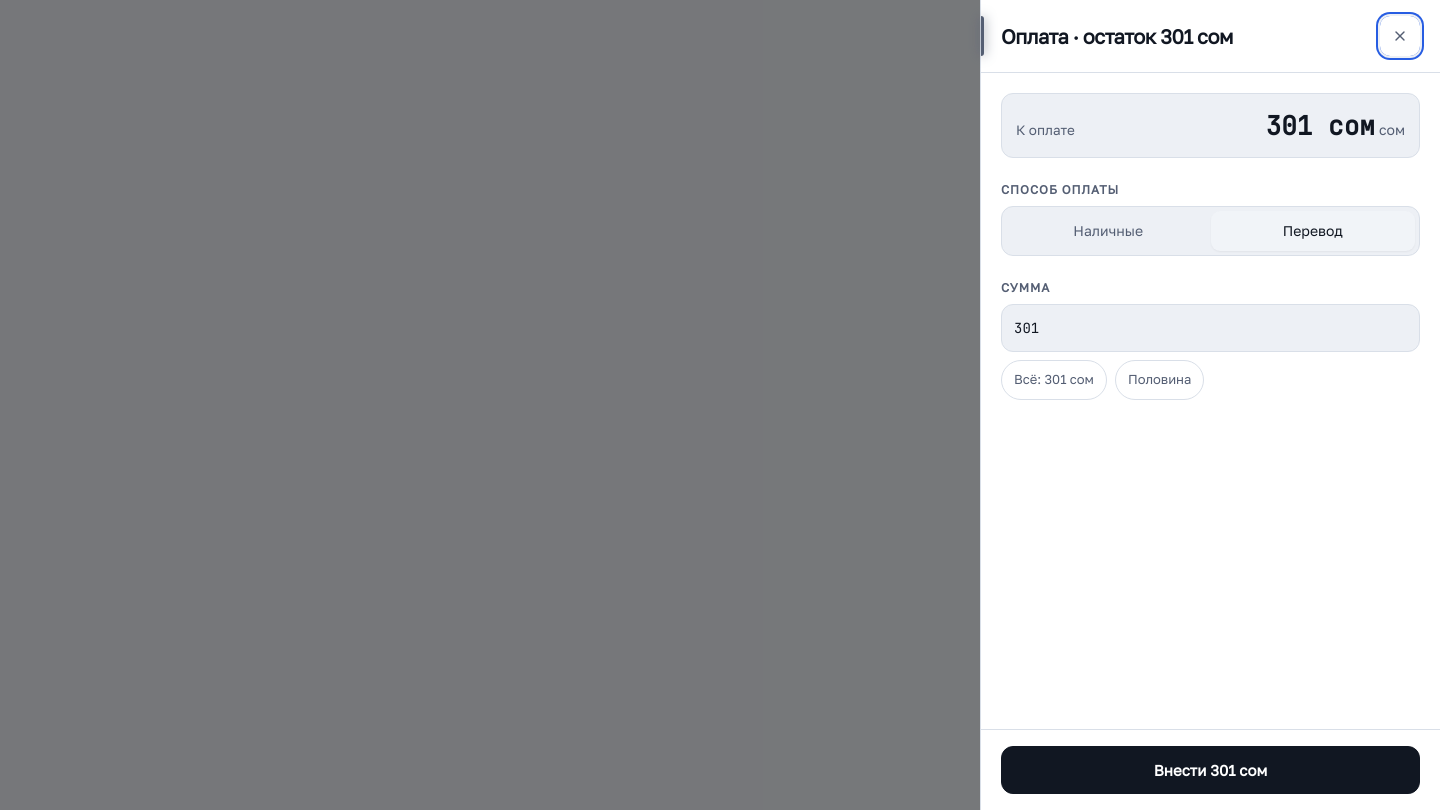
Test: PaymentDialog amounts and chips › fills the amount from the «Всё» and «Половина» chips
The width and height of the screenshot is (1440, 810).
Replace the text in the number field labelled "Сумма" with "5": [1210, 328] box [1001,304,1420,352]
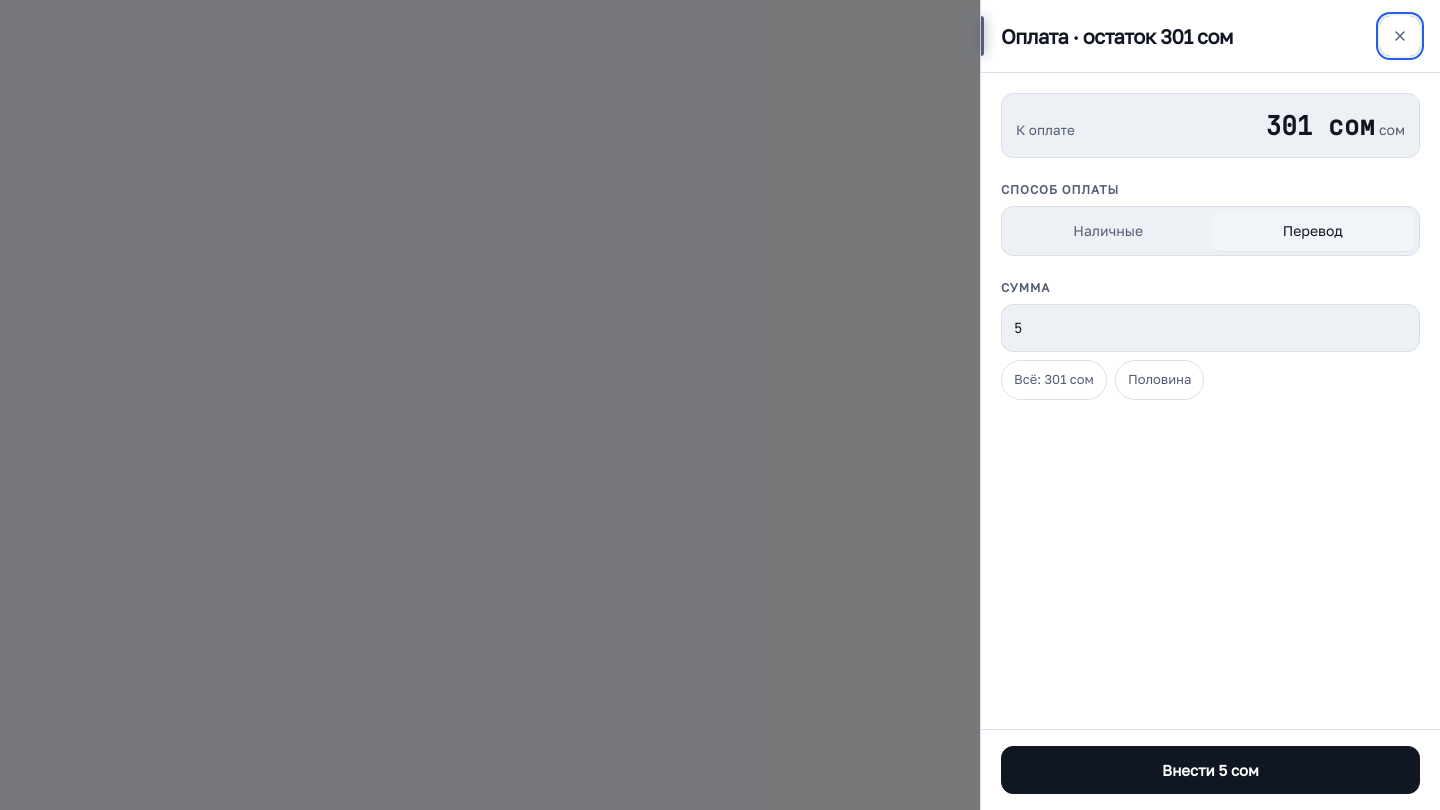
Click the button "Всё: 301 сом": [1054, 380] box [1001,360,1107,400]
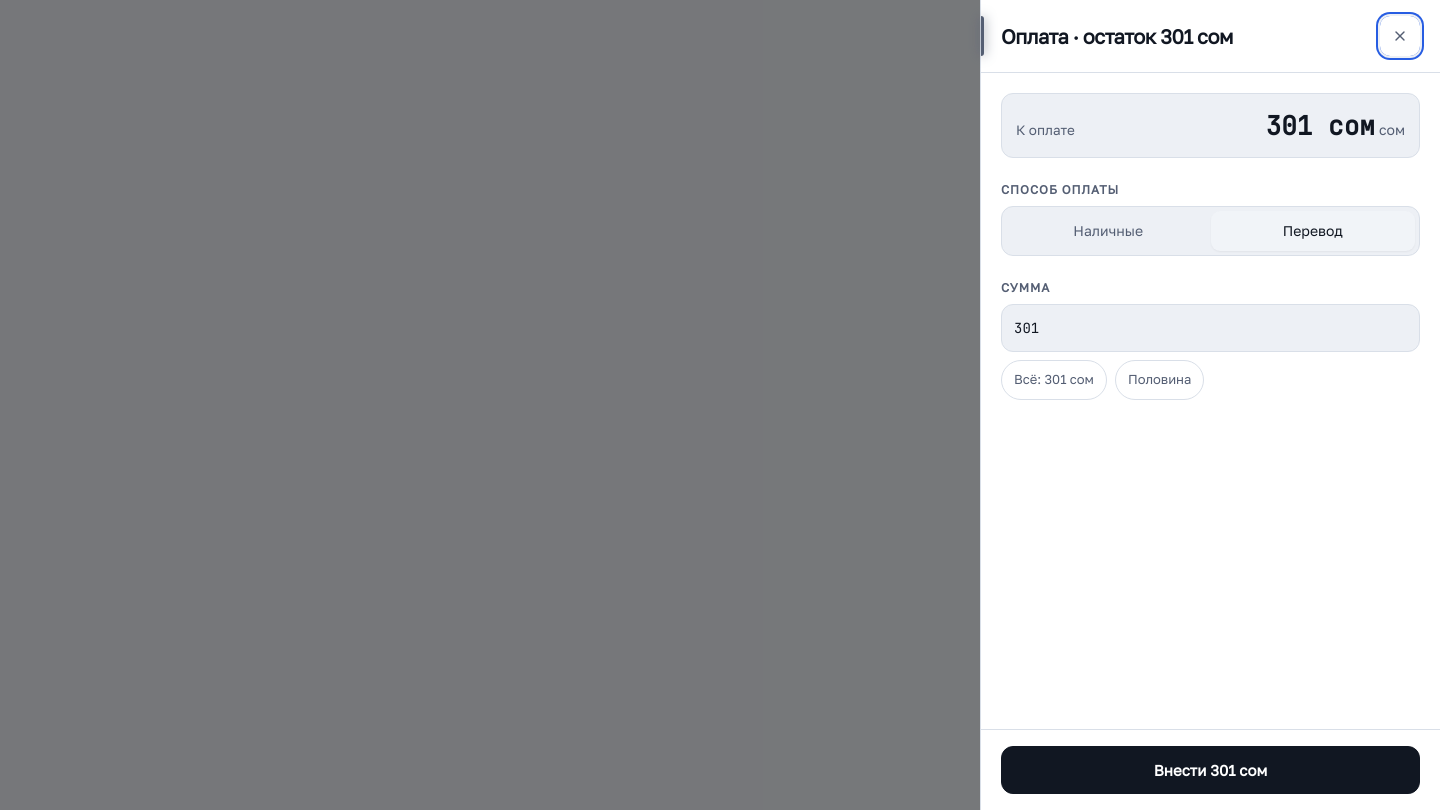
Expected: the number field labelled "Сумма" holds "301", [1001,304,1420,352]
Click the button "Половина": [1160, 380] box [1115,360,1204,400]
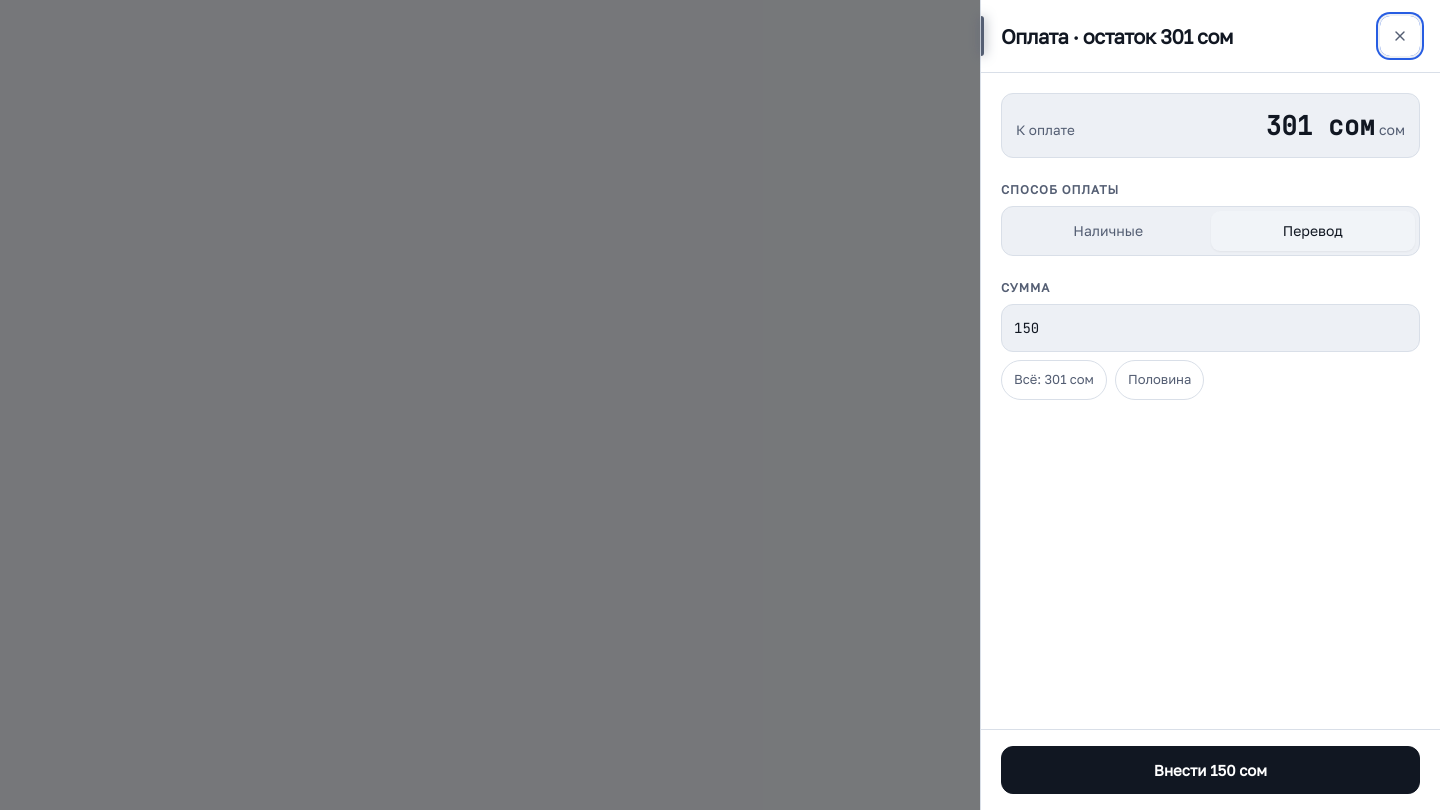
Expected: the number field labelled "Сумма" holds "150", [1001,304,1420,352]
